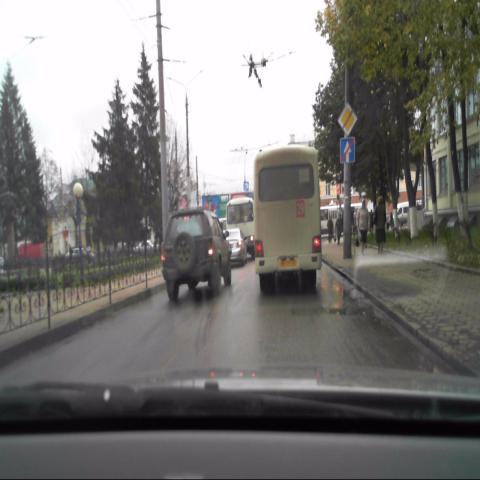2_2: (337, 101, 358, 136)
5_6: (340, 138, 356, 164)
